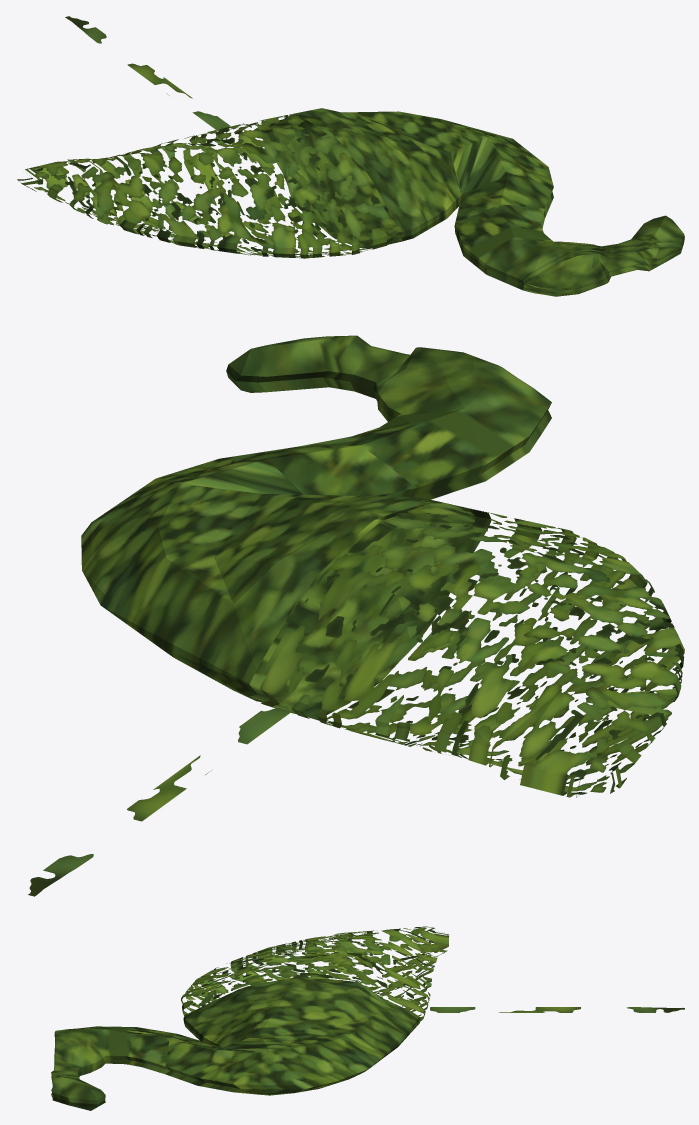
Rendered from keep-i2-model.obj.
The picture shows the model from 3 angles, top to bottom: view 1: azimuth 30°, elevation 25°; view 2: azimuth 150°, elevation 25°; view 3: azimuth 270°, elevation 25°; orthographic projection. The views are drawn at different scales.
Size of the model in its own units: 0.6245 by 0.1399 by 1.
